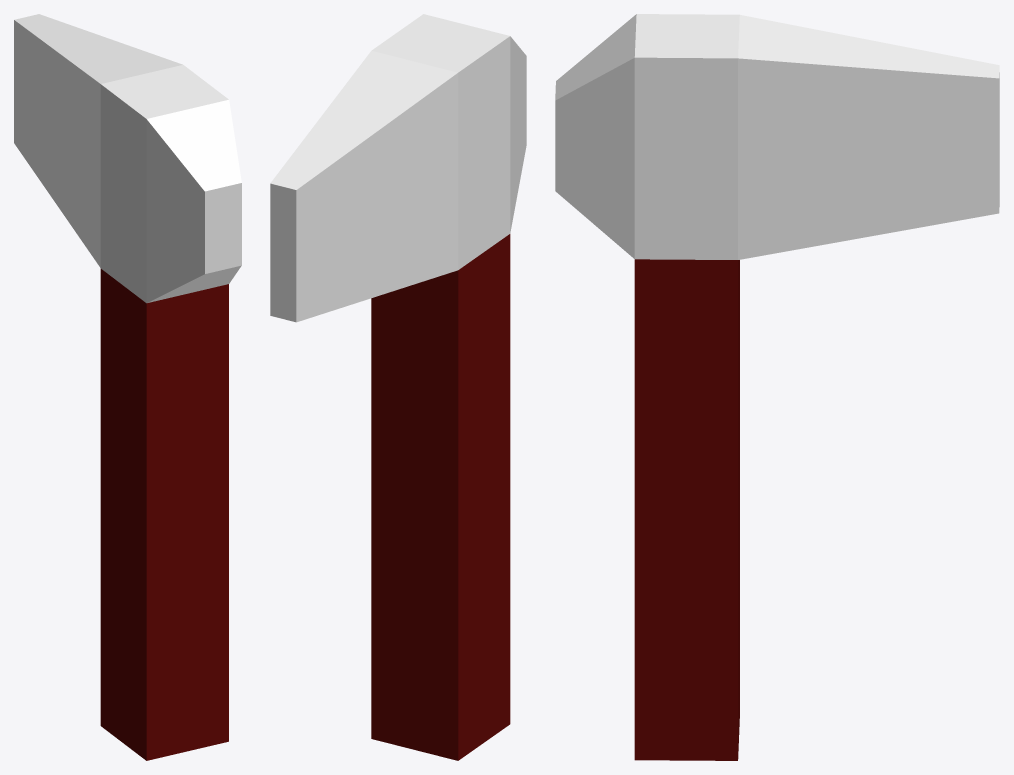
File: axe.obj
The picture shows the model from 3 angles, left to right: view 1: azimuth 30°, elevation 25°; view 2: azimuth 150°, elevation 25°; view 3: azimuth 270°, elevation 25°; orthographic projection. The views are drawn at different scales.
Parts seen in each view (by area): view 1: Cube; view 2: Cube; view 3: Cube.
Boxes of the visible parts, box(x1,y1,x2,y2) form: Cube: box(14, 14, 241, 760); Cube: box(270, 14, 526, 760); Cube: box(555, 14, 999, 760).
Size of the model in its own units: 0.3326 by 2.45 by 1.41.
